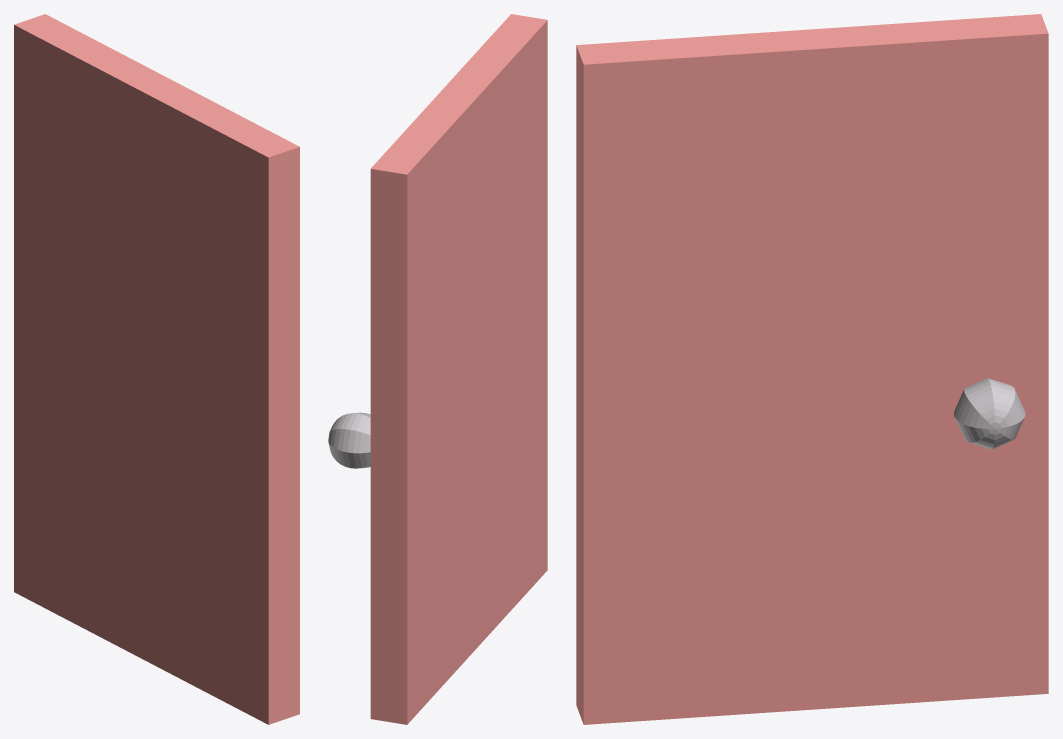
Rendered from door.fbx.
The picture shows the model from 3 angles, left to right: view 1: azimuth 30°, elevation 25°; view 2: azimuth 150°, elevation 25°; view 3: azimuth 270°, elevation 25°; orthographic projection. The views are drawn at different scales.
Parts seen in each view (by area): view 1: Sphere; view 2: Sphere; view 3: Sphere.
Boxes of the visible parts, left/top/right/bottom form: Sphere: left=14, top=14, right=299, bottom=724; Sphere: left=328, top=14, right=547, bottom=724; Sphere: left=576, top=14, right=1048, bottom=724.
Bounding box in the file's own units: 123 × 669 × 434.
